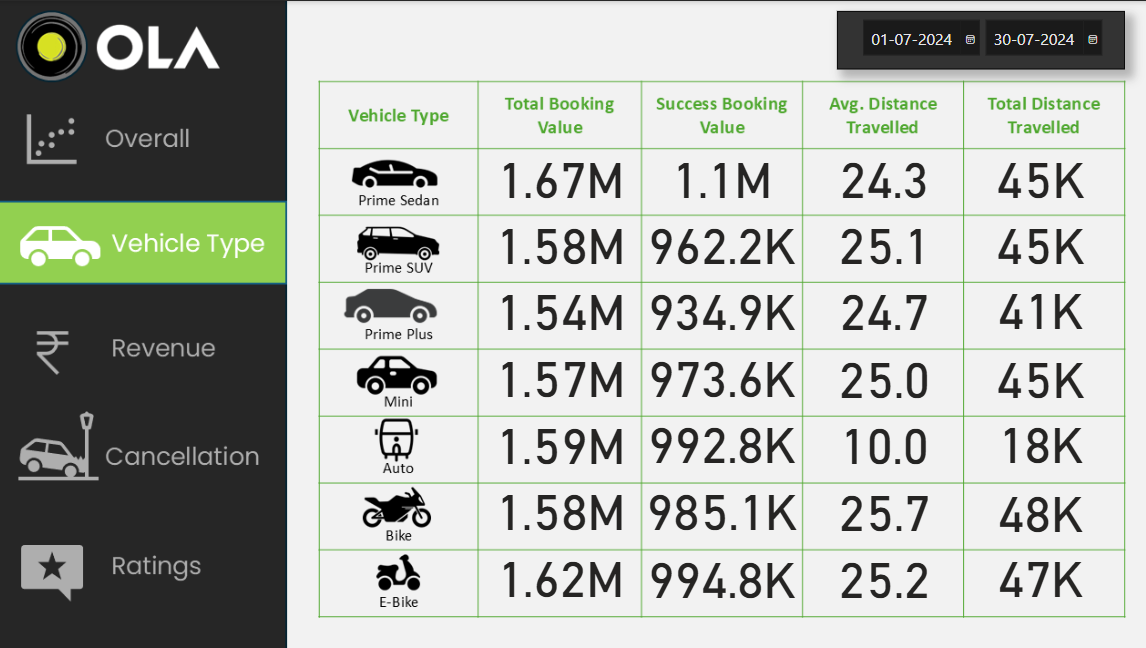

What the dashboard file says about the page in this screenshot:
{"tool":"powerbi","page":{"name":"Vehicle type","canvas":[1280,720],"ordinal":1},"visuals":[{"type":"actionButton","box":[0,101.8,322.7,92],"z":0},{"type":"actionButton","box":[0,446.6,322.7,92],"z":1000},{"type":"actionButton","box":[0,336.2,322.7,92],"z":2000},{"type":"actionButton","box":[0,575.5,322.7,92],"z":3000},{"type":"card","fields":{"Values":["Sum(Booking csv.Booking_Value)"]},"box":[520,237.1,208.6,72.9],"z":4000},{"type":"card","fields":{"Values":["Sum(Booking csv.Booking_Value)"]},"box":[520,310,208.6,72.9],"z":5000},{"type":"card","fields":{"Values":["Sum(Booking csv.Booking_Value)"]},"box":[520,164.3,208.6,72.9],"z":6000},{"type":"card","fields":{"Values":["Sum(Booking csv.Booking_Value)"]},"box":[520,382.9,208.6,72.9],"z":7000},{"type":"card","fields":{"Values":["Sum(Booking csv.Booking_Value)"]},"box":[520,457.1,208.6,72.9],"z":8000},{"type":"card","fields":{"Values":["Sum(Booking csv.Booking_Value)"]},"box":[520,530,208.6,72.9],"z":9000},{"type":"card","fields":{"Values":["Sum(Booking csv.Booking_Value)"]},"box":[520,602.9,208.6,72.9],"z":10000},{"type":"card","fields":{"Values":["Sum(Booking csv.Booking_Value)"]},"box":[697.1,164.3,208.6,72.9],"z":11000},{"type":"card","fields":{"Values":["Sum(Booking csv.Booking_Value)"]},"box":[697.1,237.1,208.6,72.9],"z":12000},{"type":"card","fields":{"Values":["Sum(Booking csv.Booking_Value)"]},"box":[697.1,310,208.6,72.9],"z":13000},{"type":"card","fields":{"Values":["Sum(Booking csv.Booking_Value)"]},"box":[697.1,382.9,208.6,72.9],"z":14000},{"type":"card","fields":{"Values":["Sum(Booking csv.Booking_Value)"]},"box":[697.1,530,208.6,72.9],"z":15000},{"type":"card","fields":{"Values":["Sum(Booking csv.Booking_Value)"]},"box":[697.1,455.7,208.6,72.9],"z":16000},{"type":"card","fields":{"Values":["Sum(Booking csv.Booking_Value)"]},"box":[697.1,604.3,208.6,72.9],"z":17000},{"type":"card","fields":{"Values":["Avg(Booking csv.Ride_Distance)"]},"box":[875.7,164.3,208.6,72.9],"z":18000},{"type":"card","fields":{"Values":["Avg(Booking csv.Ride_Distance)"]},"box":[875.7,237.1,208.6,72.9],"z":19000},{"type":"card","fields":{"Values":["Avg(Booking csv.Ride_Distance)"]},"box":[875.7,310,208.6,72.9],"z":20000},{"type":"card","fields":{"Values":["Avg(Booking csv.Ride_Distance)"]},"box":[875.7,384.3,208.6,72.9],"z":21000},{"type":"card","fields":{"Values":["Avg(Booking csv.Ride_Distance)"]},"box":[875.7,457.1,208.6,72.9],"z":22000},{"type":"card","fields":{"Values":["Avg(Booking csv.Ride_Distance)"]},"box":[875.5,529.7,208.6,74.1],"z":23000},{"type":"card","fields":{"Values":["Avg(Booking csv.Ride_Distance)"]},"box":[875.5,603.8,208.6,74.1],"z":24000},{"type":"card","fields":{"Values":["Sum(Booking csv.Ride_Distance)"]},"box":[1047,164.7,208.6,72.7],"z":25000},{"type":"card","fields":{"Values":["Sum(Booking csv.Ride_Distance)"]},"box":[1047,237.4,208.6,72.7],"z":26000},{"type":"card","fields":{"Values":["Sum(Booking csv.Ride_Distance)"]},"box":[1047,308.7,208.6,72.7],"z":27000},{"type":"card","fields":{"Values":["Sum(Booking csv.Ride_Distance)"]},"box":[1047,384.2,208.6,72.7],"z":28000},{"type":"card","fields":{"Values":["Sum(Booking csv.Ride_Distance)"]},"box":[1047,455.6,208.6,72.7],"z":29000},{"type":"card","fields":{"Values":["Sum(Booking csv.Ride_Distance)"]},"box":[1047,531,208.6,72.7],"z":30000},{"type":"card","fields":{"Values":["Sum(Booking csv.Ride_Distance)"]},"box":[1047,602.4,208.6,72.7],"z":31000},{"type":"slicer","title":"Date","fields":{"Values":["Booking csv.Date"]},"box":[927.1,11.4,315.7,64.3],"z":32000}]}

Visuals, with their boxes on the page's 1280x720 design canvas (x1, y1, x2, y2). These are canvas units, not pixel positions in the 1146x648 screenshot, which may show the page scaled, cropped or inside an application window:
actionButton: 0,102,323,194
actionButton: 0,447,323,539
actionButton: 0,336,323,428
actionButton: 0,576,323,668
card - Sum(Booking csv.Booking_Value): 520,237,729,310
card - Sum(Booking csv.Booking_Value): 520,310,729,383
card - Sum(Booking csv.Booking_Value): 520,164,729,237
card - Sum(Booking csv.Booking_Value): 520,383,729,456
card - Sum(Booking csv.Booking_Value): 520,457,729,530
card - Sum(Booking csv.Booking_Value): 520,530,729,603
card - Sum(Booking csv.Booking_Value): 520,603,729,676
card - Sum(Booking csv.Booking_Value): 697,164,906,237
card - Sum(Booking csv.Booking_Value): 697,237,906,310
card - Sum(Booking csv.Booking_Value): 697,310,906,383
card - Sum(Booking csv.Booking_Value): 697,383,906,456
card - Sum(Booking csv.Booking_Value): 697,530,906,603
card - Sum(Booking csv.Booking_Value): 697,456,906,529
card - Sum(Booking csv.Booking_Value): 697,604,906,677
card - Avg(Booking csv.Ride_Distance): 876,164,1084,237
card - Avg(Booking csv.Ride_Distance): 876,237,1084,310
card - Avg(Booking csv.Ride_Distance): 876,310,1084,383
card - Avg(Booking csv.Ride_Distance): 876,384,1084,457
card - Avg(Booking csv.Ride_Distance): 876,457,1084,530
card - Avg(Booking csv.Ride_Distance): 876,530,1084,604
card - Avg(Booking csv.Ride_Distance): 876,604,1084,678
card - Sum(Booking csv.Ride_Distance): 1047,165,1256,237
card - Sum(Booking csv.Ride_Distance): 1047,237,1256,310
card - Sum(Booking csv.Ride_Distance): 1047,309,1256,381
card - Sum(Booking csv.Ride_Distance): 1047,384,1256,457
card - Sum(Booking csv.Ride_Distance): 1047,456,1256,528
card - Sum(Booking csv.Ride_Distance): 1047,531,1256,604
card - Sum(Booking csv.Ride_Distance): 1047,602,1256,675
"Date" slicer: 927,11,1243,76
